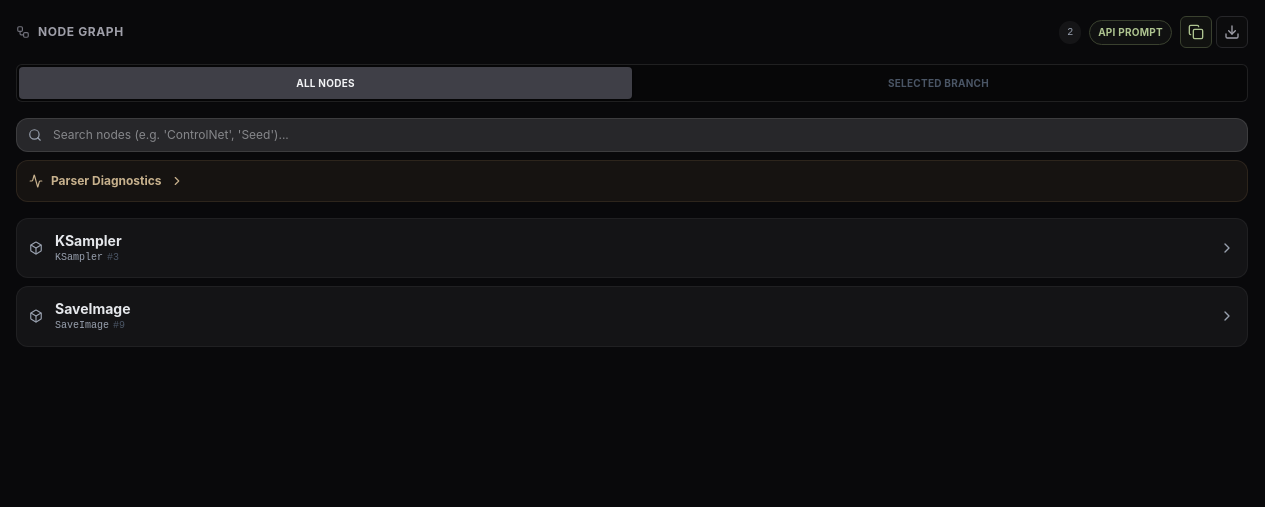
WorkflowInspector ComfyUI parser diagnostics › formats Error diagnostics failures
The width and height of the screenshot is (1265, 507).
Step 1. Click the button "Parser Diagnostics" → (106, 180), box x1=29 y1=173 x2=1235 y2=189
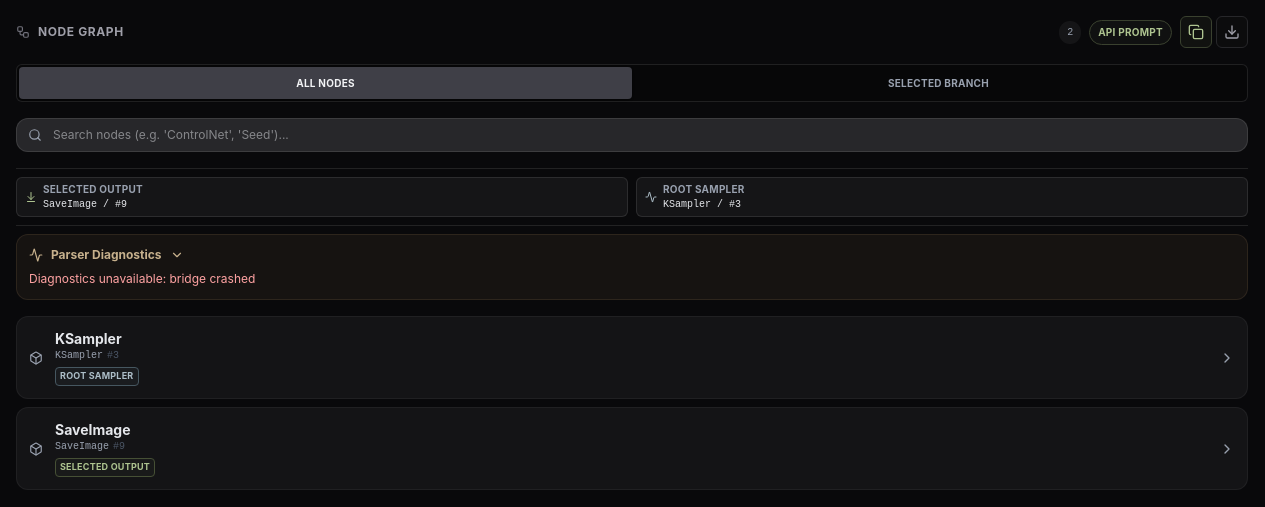
expect the text "Diagnostics unavailable: bridge crashed" is shown: met, box x1=29 y1=271 x2=255 y2=286
